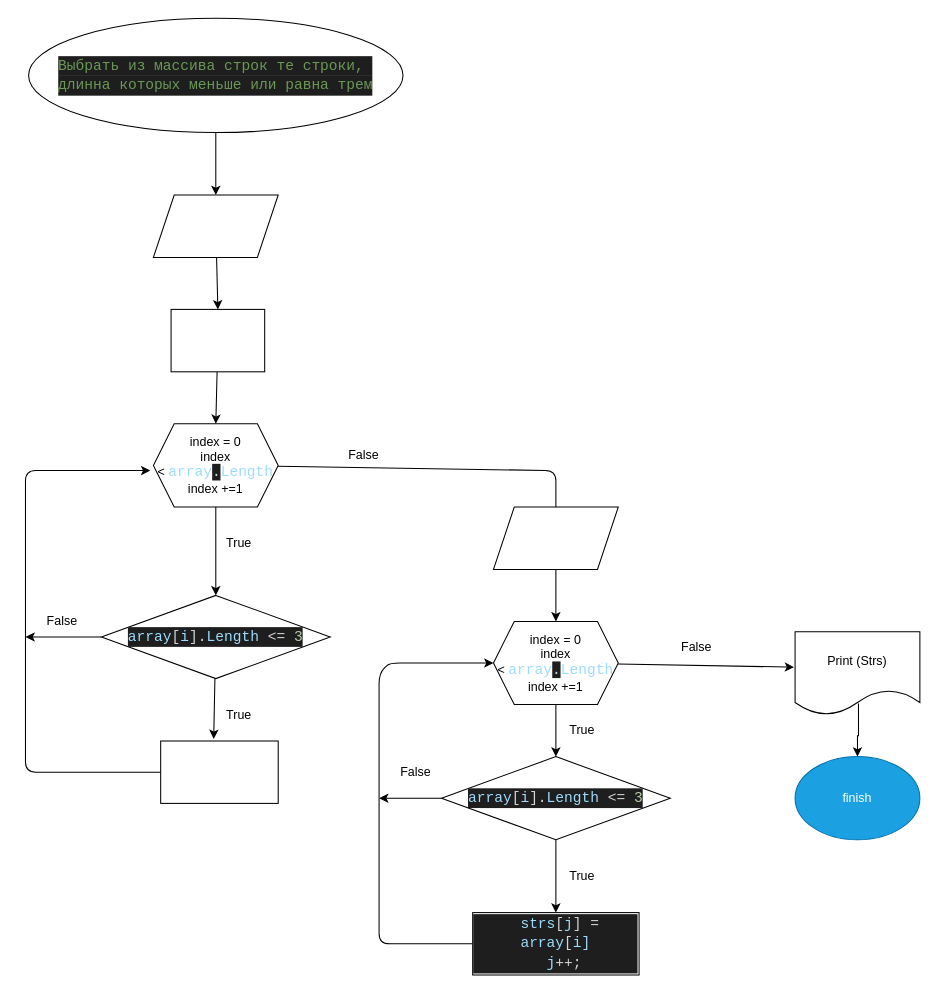
Some shapes in this 938 by 993 pixel diagram are drawn without their labels. Here are the shapes that lost their labels. From the top down, the centre of each, then its label:
[215,225]: input Array
[217,340]: count = 0
[555,537]: create Strs j = 0
[219,771]: count +=1
